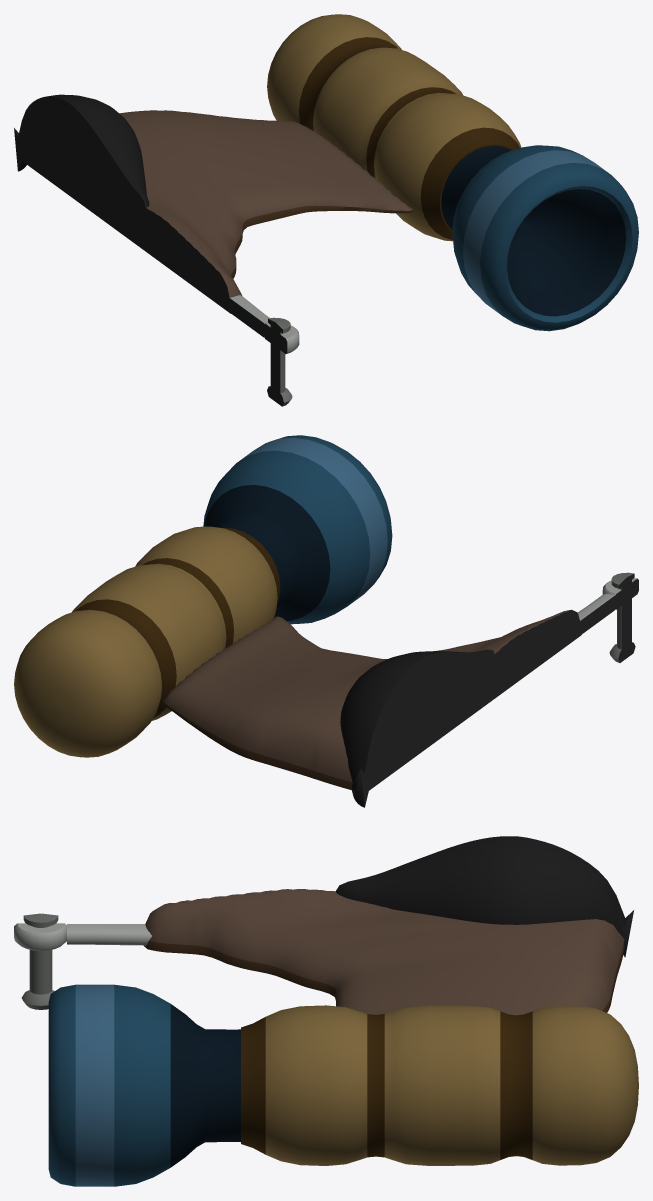
The model's file is miners_tug_r.glb.
3 renders of one model, top to bottom at view 1: azimuth 30°, elevation 25°; view 2: azimuth 150°, elevation 25°; view 3: azimuth 270°, elevation 25°, orthographic. The views are drawn at different scales.
Parts seen in each view (by area): view 1: wing.001, bell+1.001, tank+1.001, canopy.001, pin.001, lug.001, lug_eye.001; view 2: tank+1.001, wing.001, bell+1.001, canopy.001, pin.001, lug.001, lug_eye.001; view 3: tank+1.001, wing.001, bell+1.001, canopy.001, pin.001, lug.001, lug_eye.001.
Boxes of the visible parts, left/top/right/bottom form: wing.001: left=18, top=110, right=413, bottom=313; bell+1.001: left=441, top=145, right=638, bottom=331; tank+1.001: left=267, top=14, right=521, bottom=241; canopy.001: left=14, top=94, right=149, bottom=227; pin.001: left=267, top=317, right=292, bottom=406; lug.001: left=220, top=291, right=269, bottom=337; lug_eye.001: left=264, top=323, right=299, bottom=353; tank+1.001: left=14, top=526, right=280, bottom=757; wing.001: left=163, top=609, right=581, bottom=790; bell+1.001: left=203, top=435, right=392, bottom=624; canopy.001: left=340, top=649, right=496, bottom=807; pin.001: left=609, top=572, right=635, bottom=662; lug.001: left=570, top=594, right=615, bottom=637; lug_eye.001: left=602, top=578, right=638, bottom=609; tank+1.001: left=241, top=1005, right=638, bottom=1165; wing.001: left=143, top=889, right=624, bottom=1015; bell+1.001: left=48, top=984, right=240, bottom=1186; canopy.001: left=335, top=836, right=633, bottom=957; pin.001: left=21, top=913, right=58, bottom=1009; lug.001: left=67, top=924, right=151, bottom=945; lug_eye.001: left=14, top=923, right=66, bottom=950.
Bounding box in the file's own units: 22.68 × 9.36 × 28.92.
